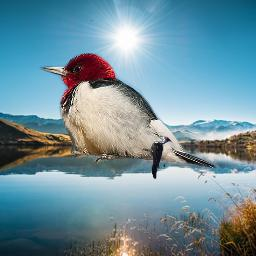Woodpecker: (39, 53, 218, 168), (142, 135, 172, 179)
